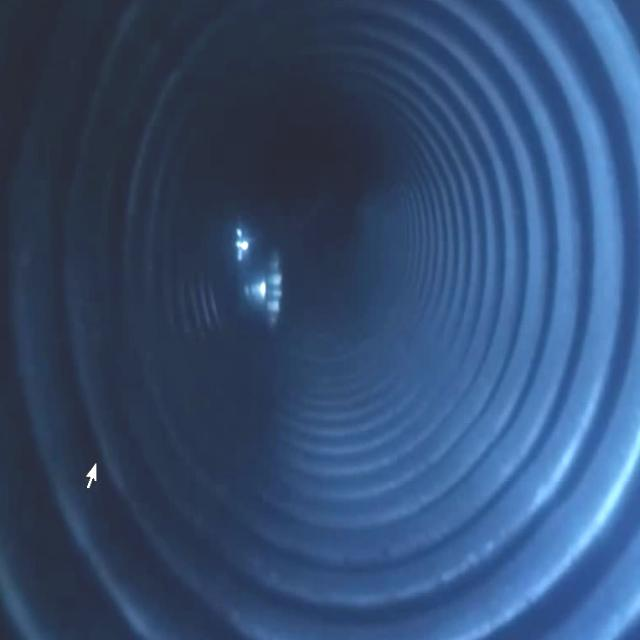metal piece: (211, 220, 288, 347)
